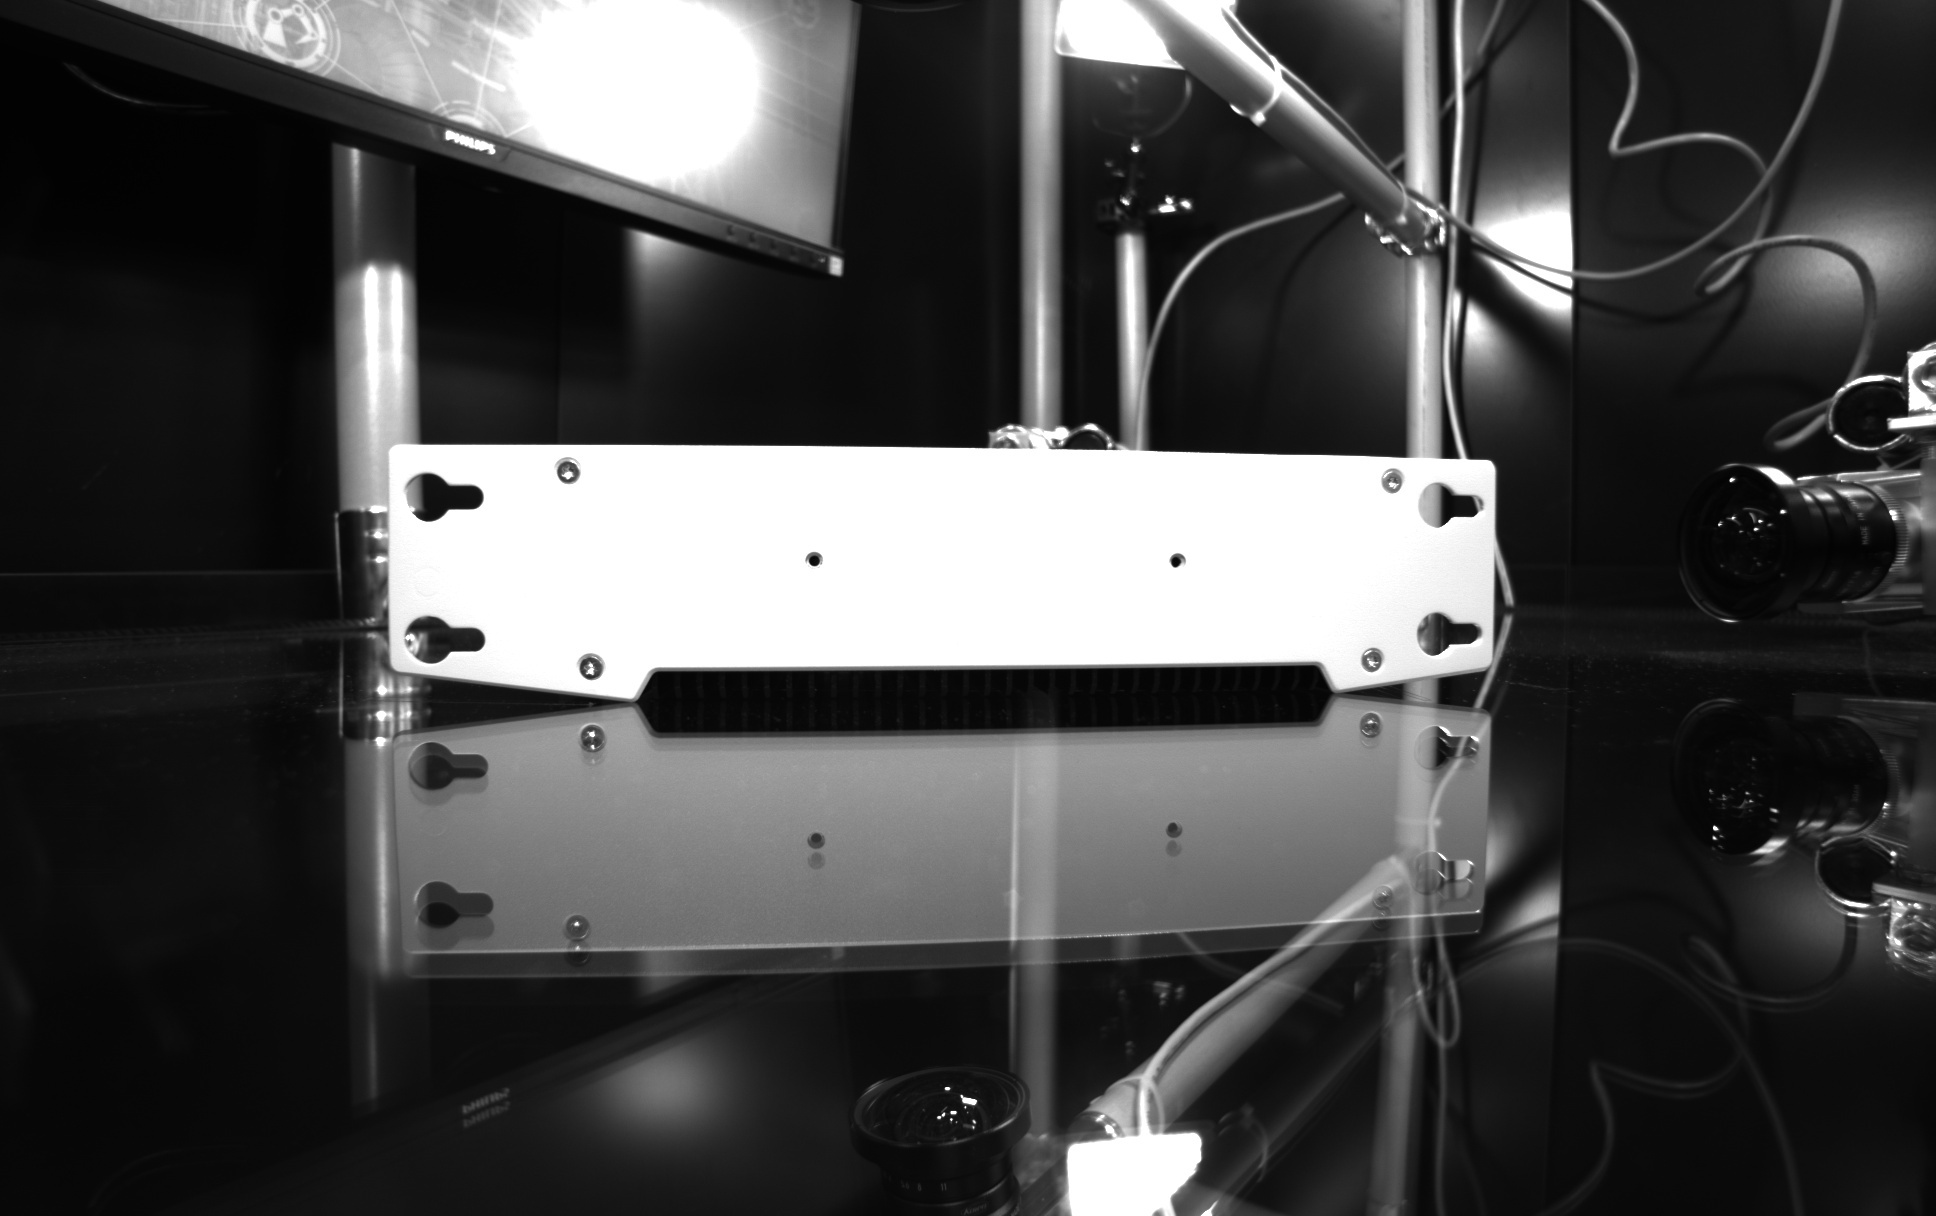CamBack: (363, 417, 1531, 693)
Schraube: (551, 452, 590, 493), (1371, 461, 1411, 502), (572, 649, 611, 688), (1350, 642, 1390, 681)
Schraube_gespiegelt: (569, 720, 614, 775), (555, 909, 595, 969), (1348, 707, 1397, 755), (1363, 883, 1404, 937)
